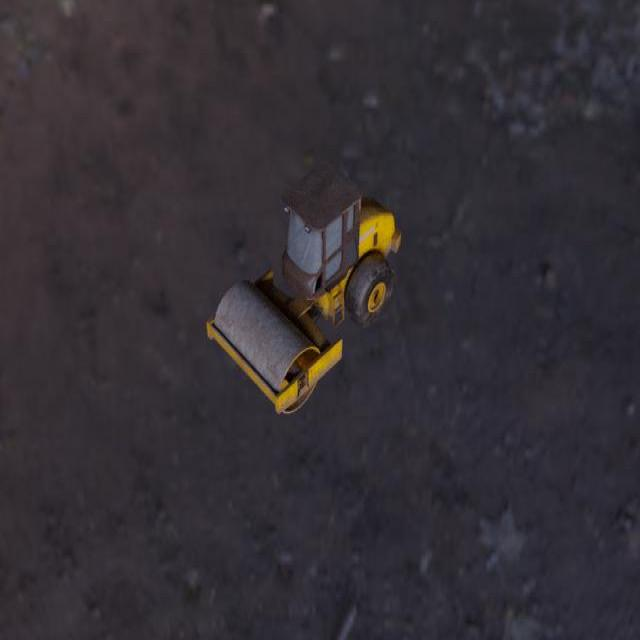Roller: (206, 160, 401, 413)
